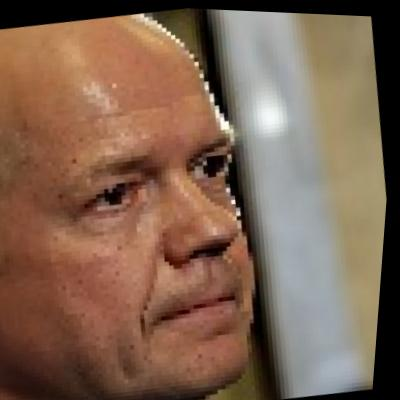angry: (0, 9, 287, 400)
